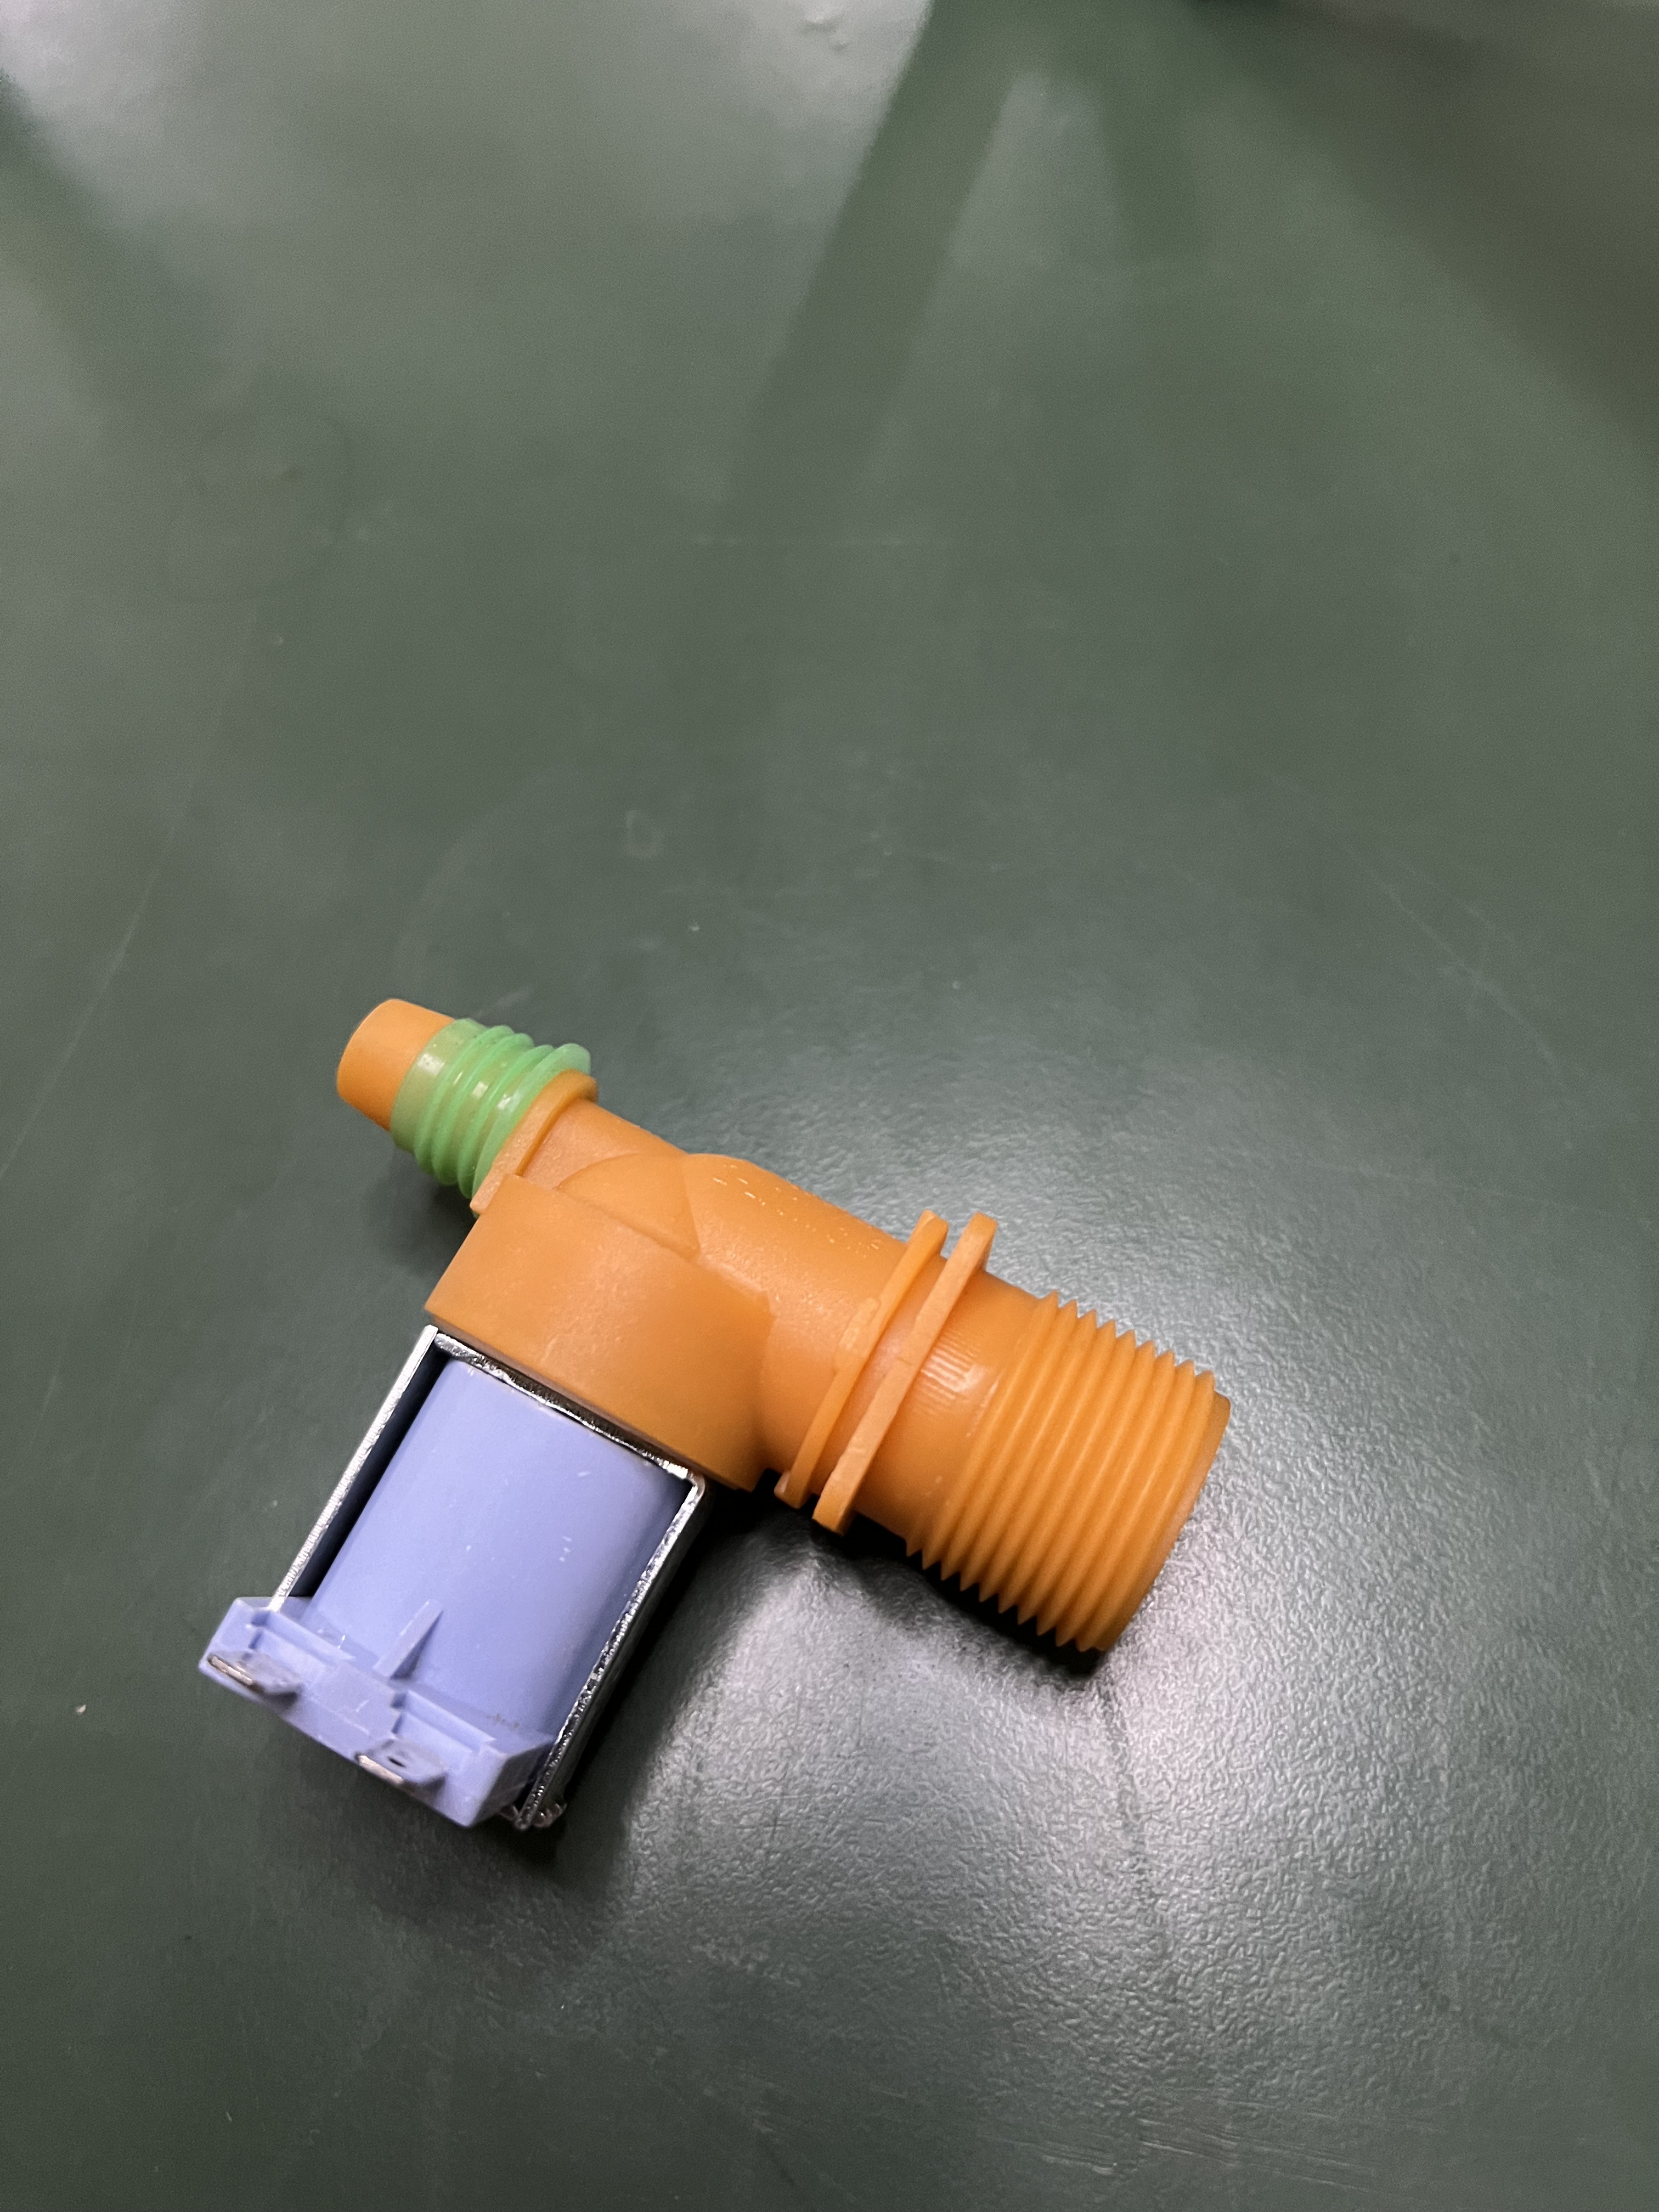ss_inlet_valves: (153, 1015, 1300, 1858)
